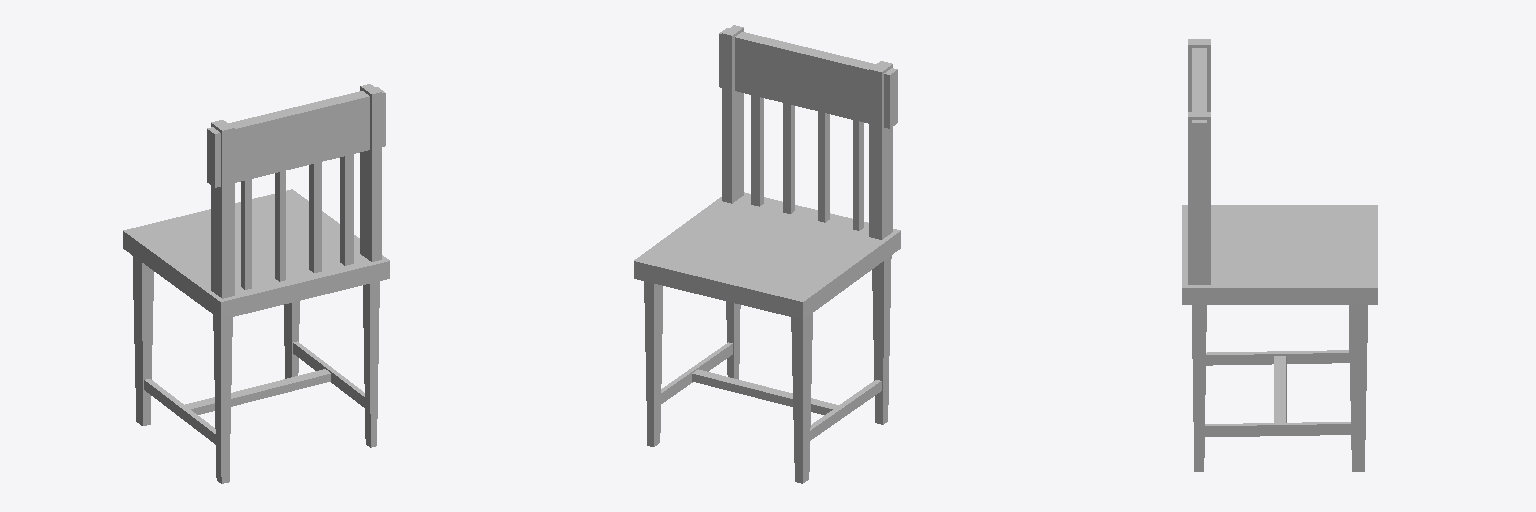
Rendered from Chair.obj.
The picture shows the model from 3 angles: view 1: azimuth 30°, elevation 25°; view 2: azimuth 150°, elevation 25°; view 3: azimuth 270°, elevation 25°; orthographic projection.
Parts seen in each view (by area): view 1: pCube1; view 2: pCube1; view 3: pCube1.
Part boxes in pixels (x1,y1,x2,y2): pCube1: (123, 84, 389, 483); pCube1: (634, 25, 900, 483); pCube1: (1182, 39, 1377, 471).
Bounding box in the file's own units: 5.04 × 10.03 × 5.